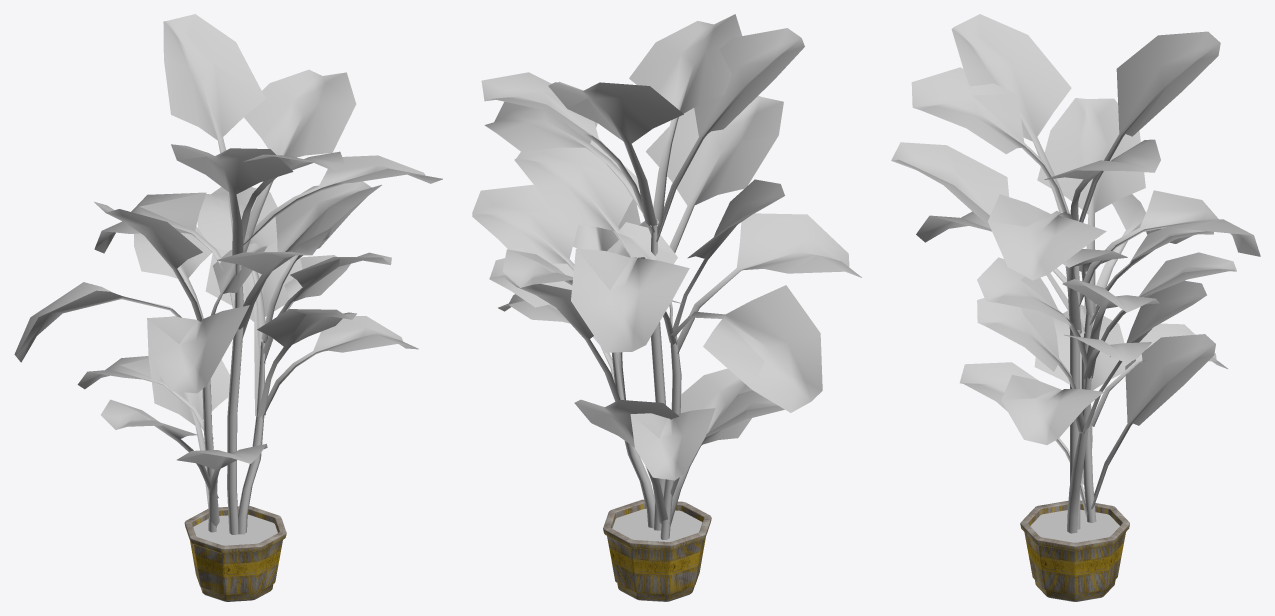
Rendered from SM_PlantI.FBX.
3 views of the same model, side by side, from view 1: azimuth 30°, elevation 25°; view 2: azimuth 150°, elevation 25°; view 3: azimuth 270°, elevation 25° (orthographic). The views are drawn at different scales.
Parts seen in each view (by area): view 1: SM_PlantI_LOD0; view 2: SM_PlantI_LOD0; view 3: SM_PlantI_LOD0.
Part boxes in pixels (x1,y1,x2,y2): SM_PlantI_LOD0: (14, 14, 442, 601); SM_PlantI_LOD0: (472, 14, 861, 601); SM_PlantI_LOD0: (891, 14, 1260, 601).
Size of what is drawn, in the model's own units: 138 by 190 by 116.
